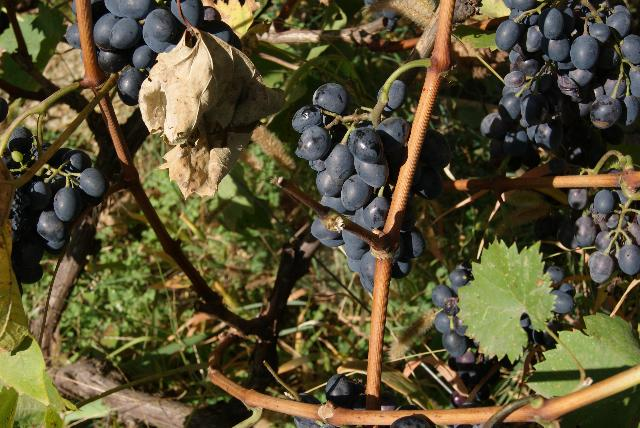grapes: (481, 0, 640, 155), (292, 84, 409, 231), (2, 128, 109, 284), (574, 190, 640, 284)
